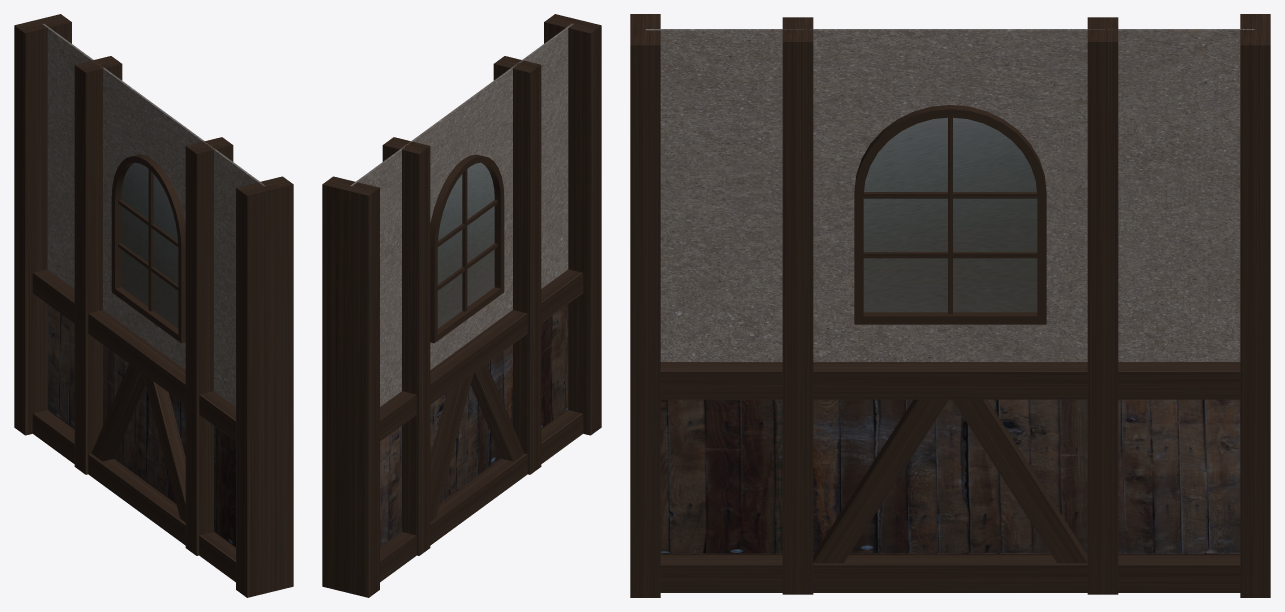
The model's file is OutdoorArchitecture_BasicWall02_Window01_BothEdges_BShortt.fbx.
3 renders of one model, left to right at view 1: azimuth 30°, elevation 25°; view 2: azimuth 150°, elevation 25°; view 3: azimuth 270°, elevation 25°, orthographic. The views are drawn at different scales.
Parts seen in each view (by area): view 1: OutdoorArchitecture_BasicWall02_Window01_BothEdges_BShortt; view 2: OutdoorArchitecture_BasicWall02_Window01_BothEdges_BShortt; view 3: OutdoorArchitecture_BasicWall02_Window01_BothEdges_BShortt.
Boxes of the visible parts, x1,y1,x2,y2 form: OutdoorArchitecture_BasicWall02_Window01_BothEdges_BShortt: [14, 14, 293, 597]; OutdoorArchitecture_BasicWall02_Window01_BothEdges_BShortt: [322, 14, 601, 597]; OutdoorArchitecture_BasicWall02_Window01_BothEdges_BShortt: [630, 14, 1270, 597].
Size of the model in its own units: 36.37 by 300 by 315.
